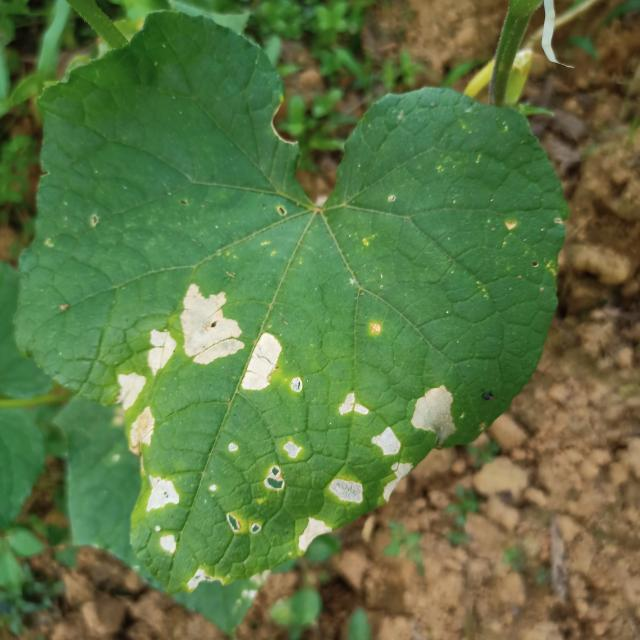disease_cucumber: (184, 282, 284, 393), (144, 472, 182, 555), (370, 426, 411, 498), (116, 371, 154, 448), (412, 384, 457, 444), (263, 438, 304, 493), (290, 514, 330, 555), (145, 329, 179, 375), (326, 477, 365, 505), (338, 391, 368, 418)
